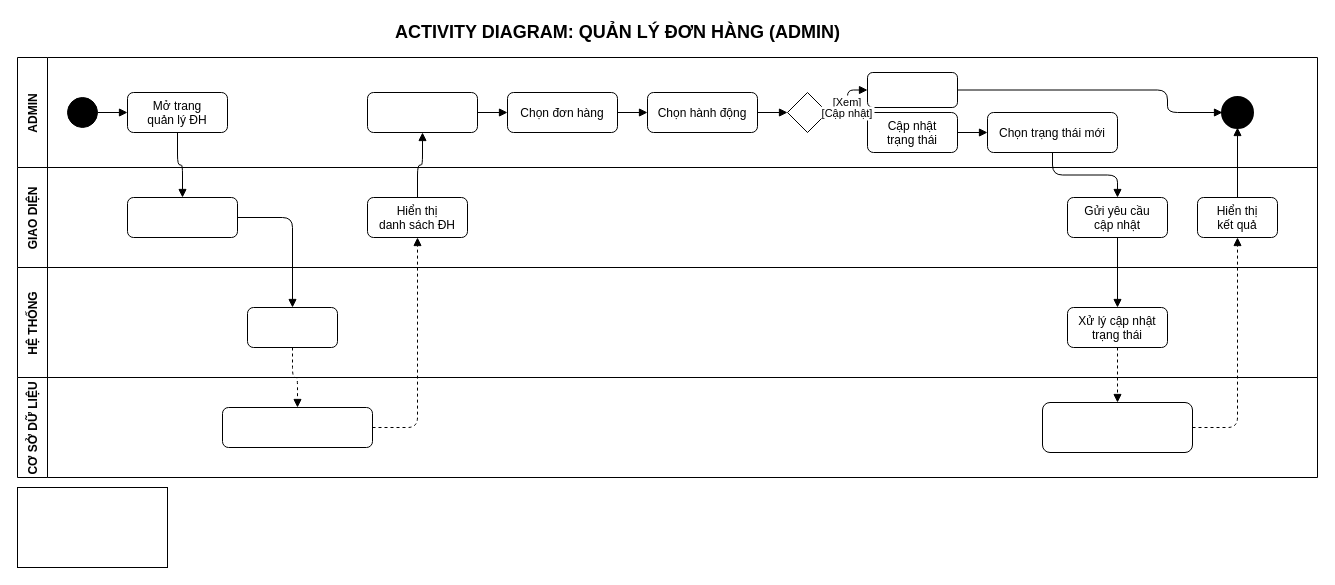
Image size: 1335x585. Some labels were removed from this diagram. The centre of each missing label's shape, as x and y in pixels:
Gửi yêu cầu load danh sách: the point at 182,217
SELECT * FROM donhang: the point at 297,427
Truy vấn đơn hàng: the point at 292,327
Trạng thái đơn hàng: • Chờ xử lý • Đang giao • Đã giao • Đã hủy: the point at 92,527
UPDATE donhang SET trangthai = ?: the point at 1117,427
Xem chi tiết: the point at 912,90
Xem danh sách đơn hàng: the point at 422,112
